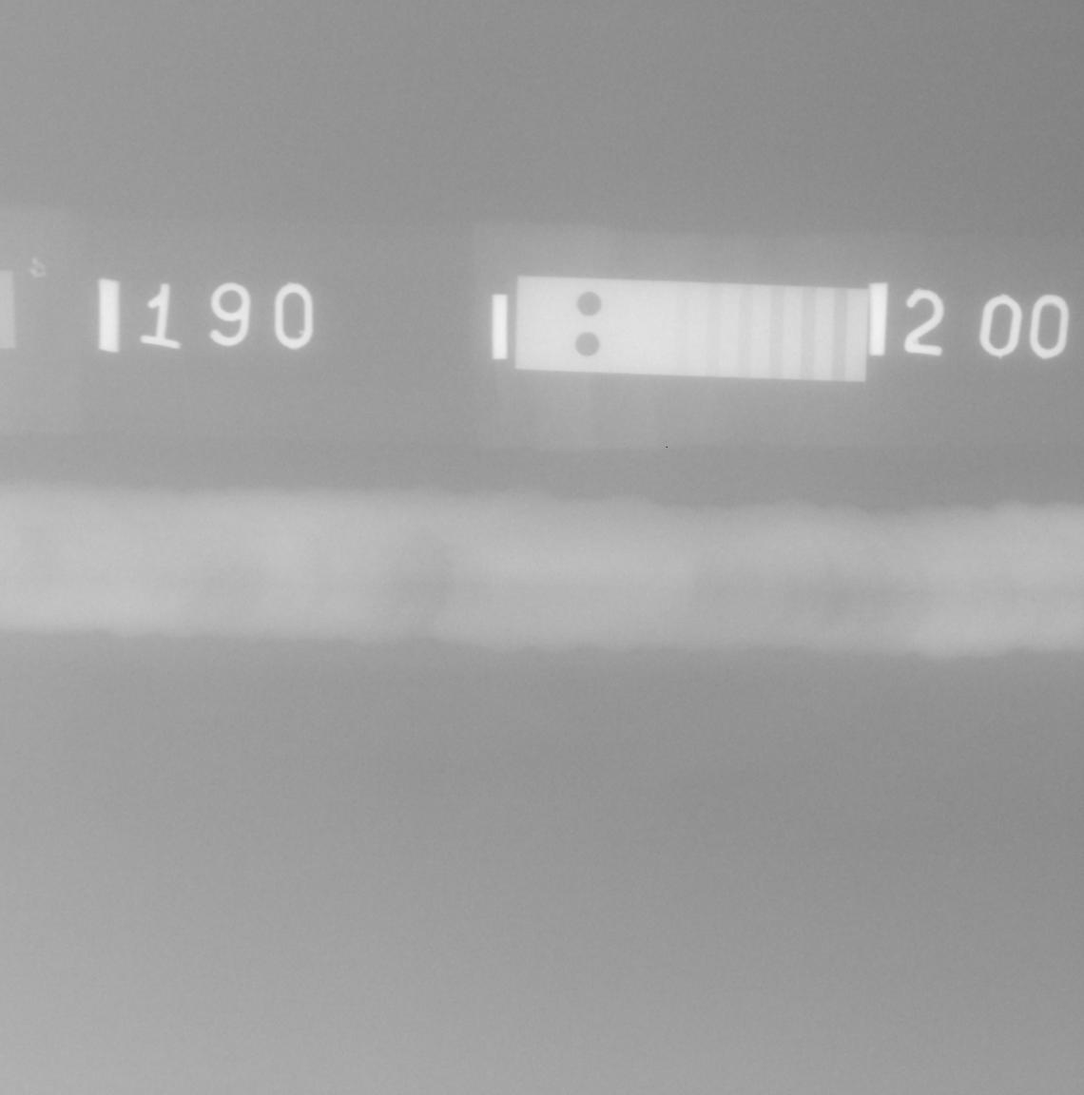Pore/Porosity: (1031, 597, 1035, 601)
Reference Standard 2: (516, 275, 868, 383)
